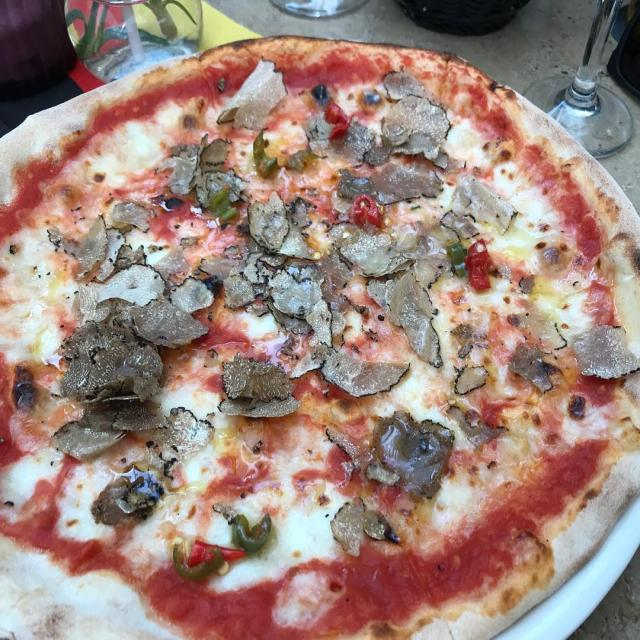pizza: (0, 37, 640, 636)
